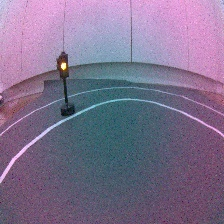amber: (55, 51, 81, 117)
